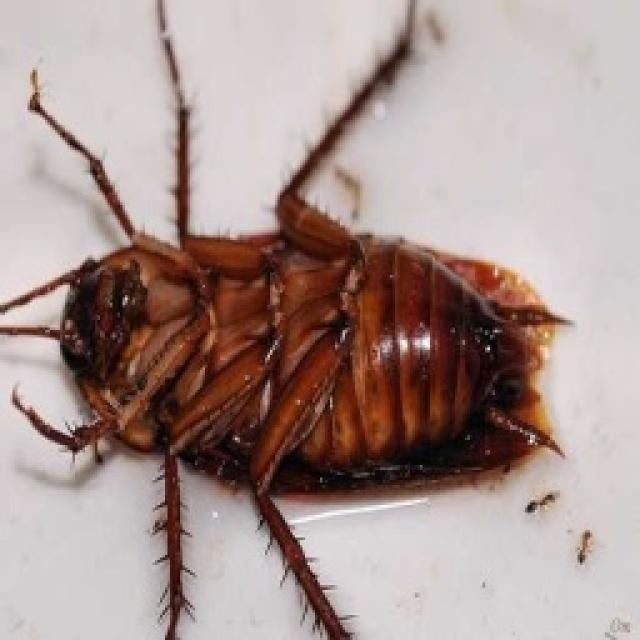cockroach: (3, 6, 578, 637)
